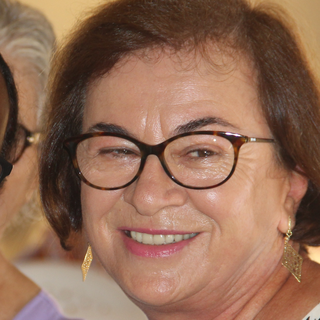eye: (169, 143, 222, 165), (93, 141, 139, 163)
